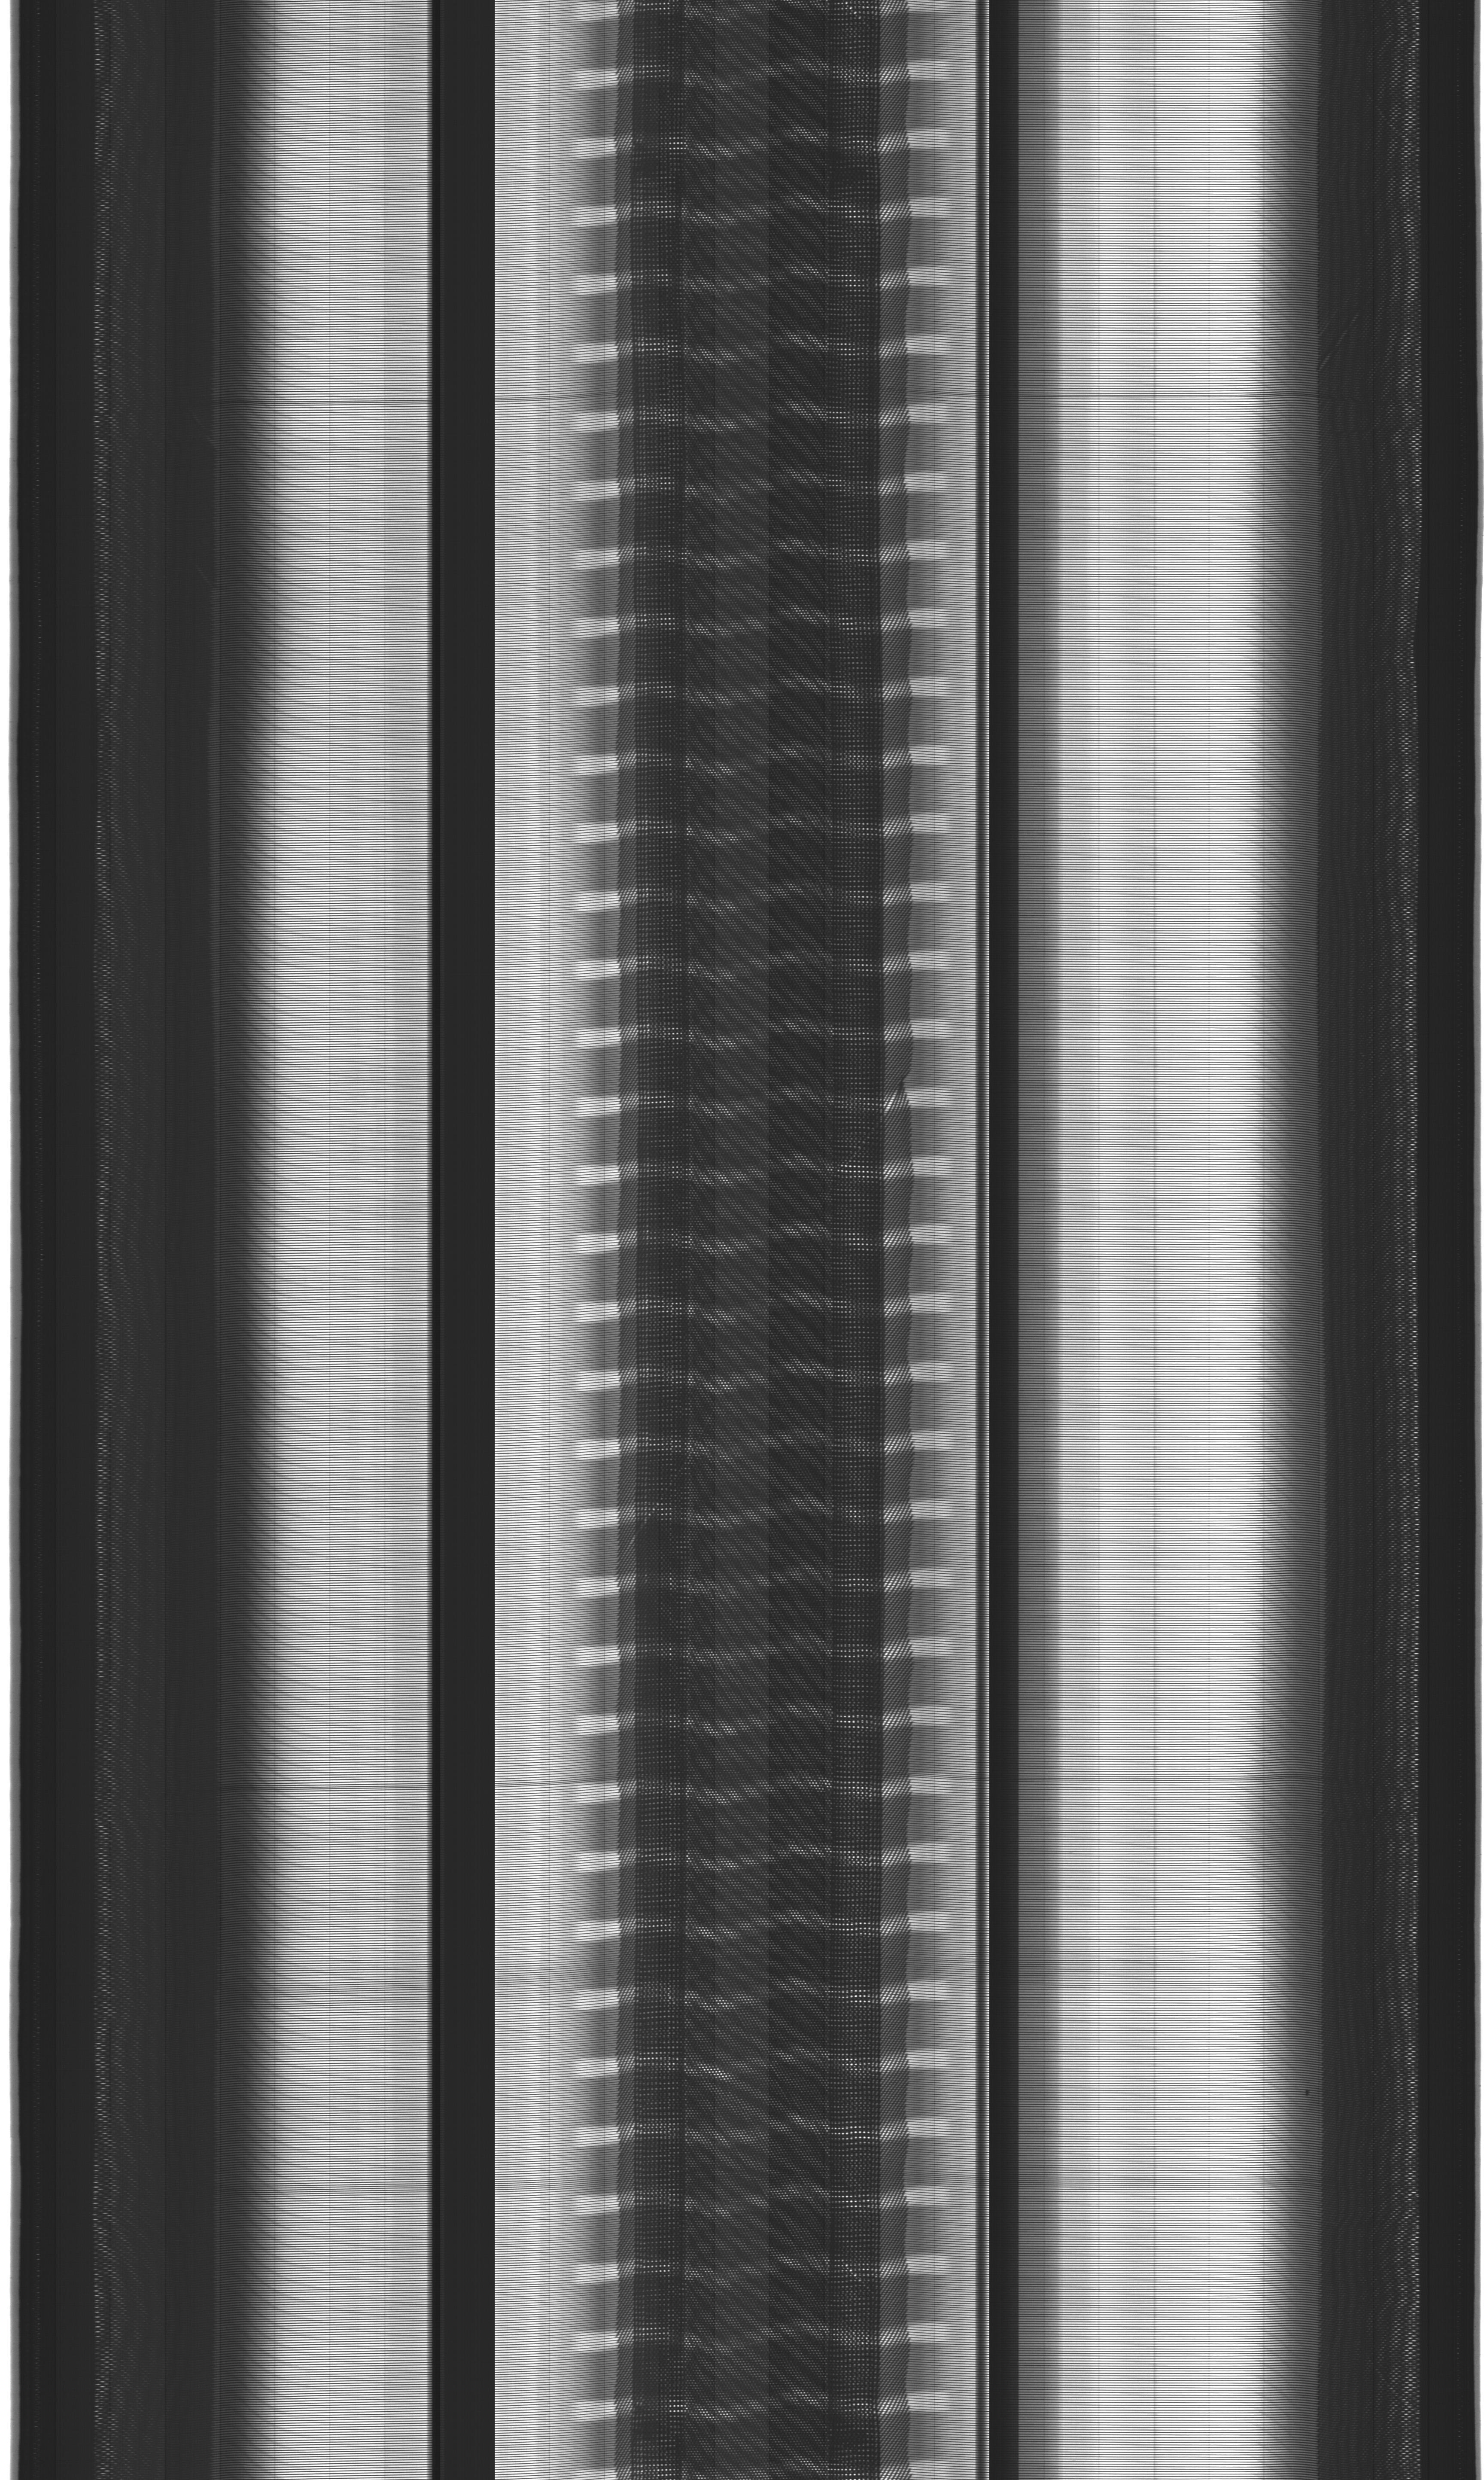713B: (1295, 2079, 1318, 2109)
